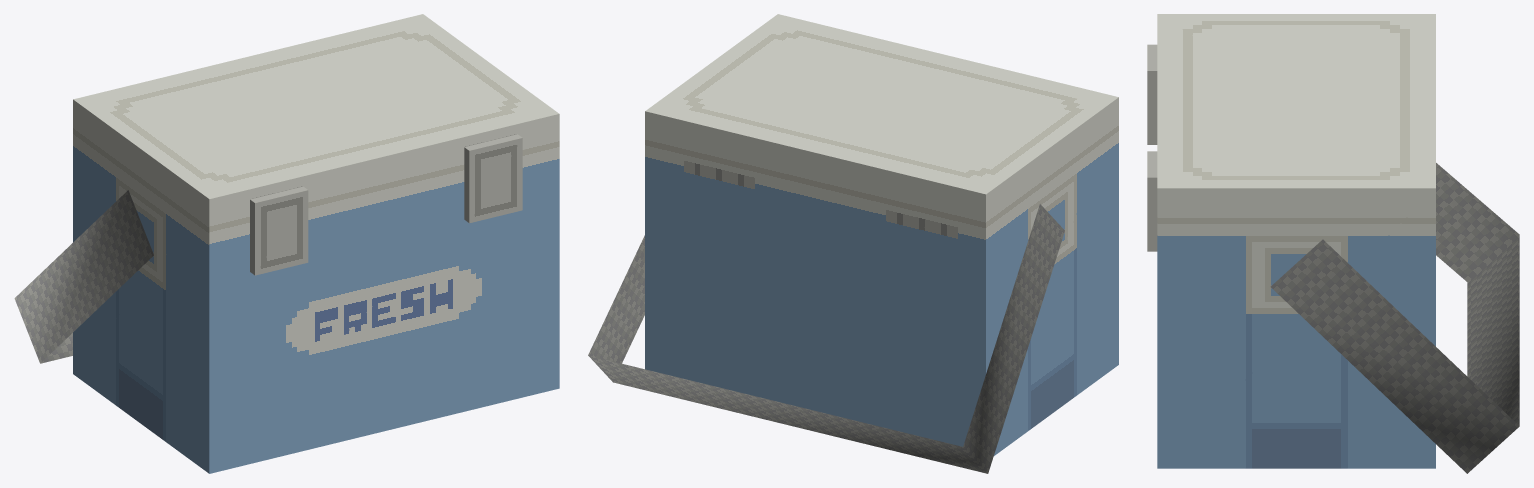
Rendered from 03c8_Cooler.glb.
3 views of the same model, side by side, from view 1: azimuth 30°, elevation 25°; view 2: azimuth 150°, elevation 25°; view 3: azimuth 270°, elevation 25° (orthographic). The views are drawn at different scales.
Visible parts, largest first — view 1: part_0; view 2: part_0; view 3: part_0.
Boxes of the visible parts, bbox=[...] form: part_0: bbox=[14, 14, 559, 473]; part_0: bbox=[588, 14, 1118, 473]; part_0: bbox=[1147, 14, 1519, 473].
Size of the model in its own units: 0.44 by 0.3 by 0.3614.
1 material, 1 textured.
